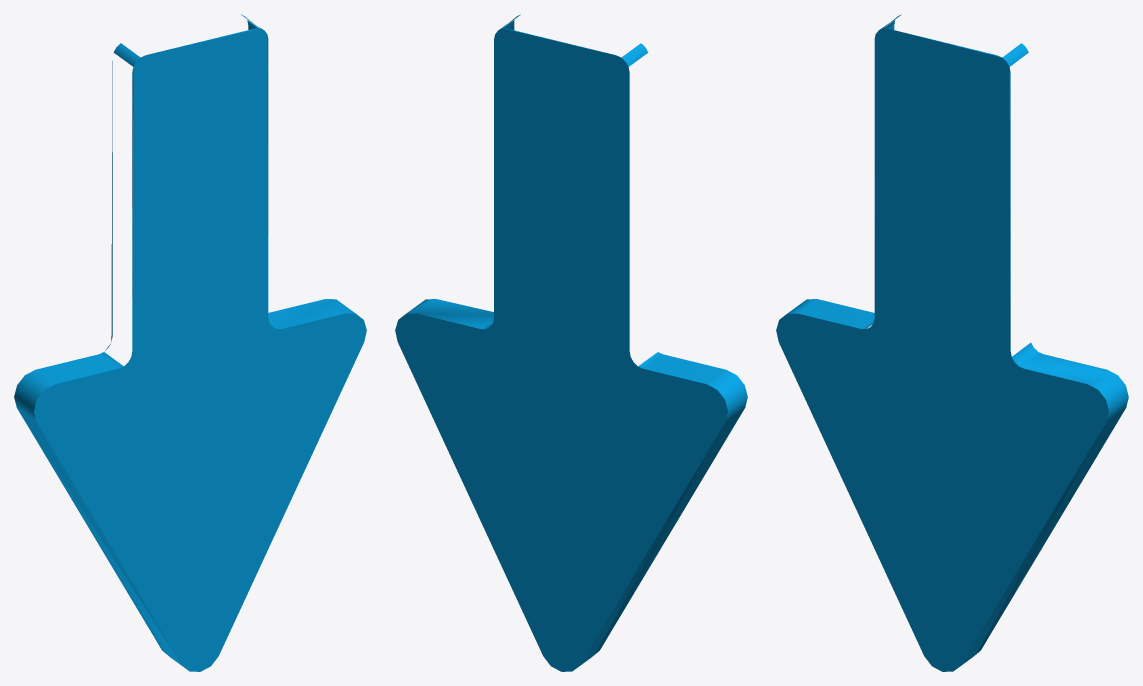
Rendered from arrow-blue.glb.
3 views of the same model, side by side, from view 1: azimuth 30°, elevation 25°; view 2: azimuth 150°, elevation 25°; view 3: azimuth 330°, elevation 25° (orthographic).
Visible parts, largest first — view 1: pCube1; view 2: pCube1; view 3: pCube1.
Boxes of the visible parts, x1,y1,x2,y2 form: pCube1: [14, 14, 366, 671]; pCube1: [395, 14, 747, 671]; pCube1: [776, 14, 1128, 671].
Size of the model in its own units: 0.0975 by 0.1763 by 0.01.
Materials: 1 (1 with a texture image).
